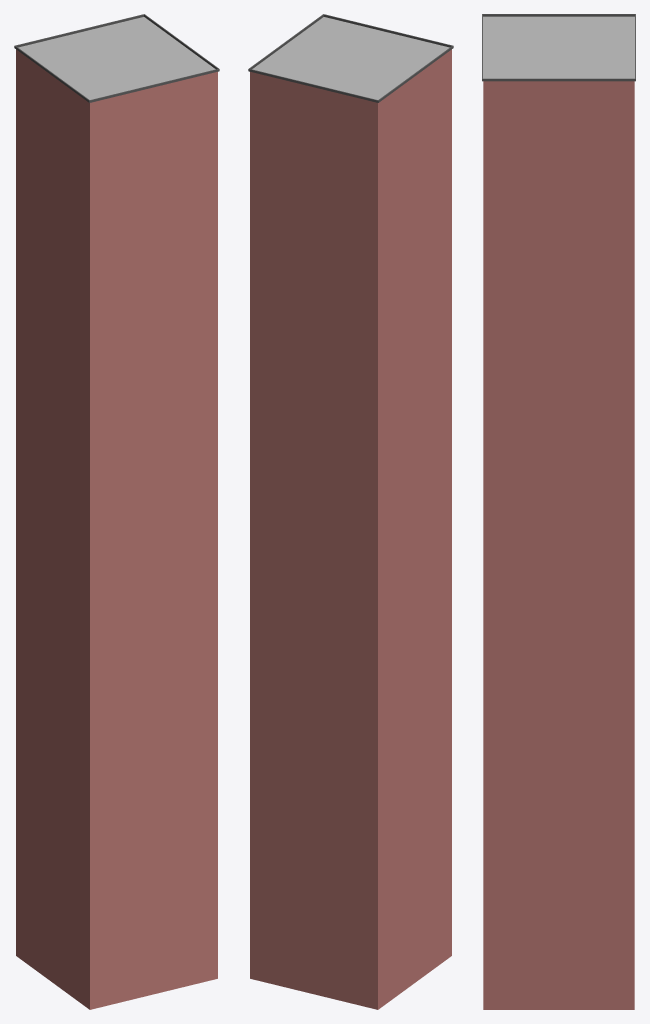
File: Building3.fbx
3 renders of one model, left to right at view 1: azimuth 30°, elevation 25°; view 2: azimuth 150°, elevation 25°; view 3: azimuth 270°, elevation 25°, orthographic. The views are drawn at different scales.
Visible parts, largest first — view 1: Cube; view 2: Cube; view 3: Cube.
Part boxes in pixels (x1,y1,x2,y2): Cube: [14, 14, 219, 1009]; Cube: [248, 14, 453, 1009]; Cube: [482, 14, 635, 1009].
Bounding box in the file's own units: 600 × 4006 × 600.
